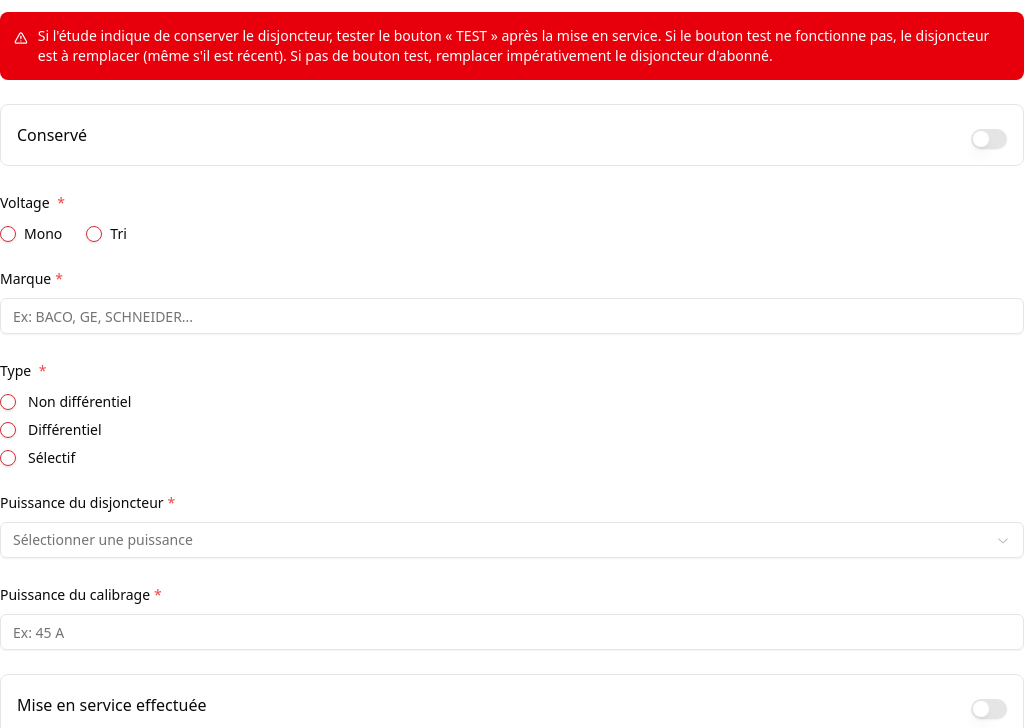
Test: CircuitBreakerStep — test du bouton (DTA-49) › demande le test quand le disjoncteur est conservé
Step 1. Click the switch in the row of "Conservé" → [989, 139], box left=971, top=129, right=1007, bottom=149
(page scrolled)
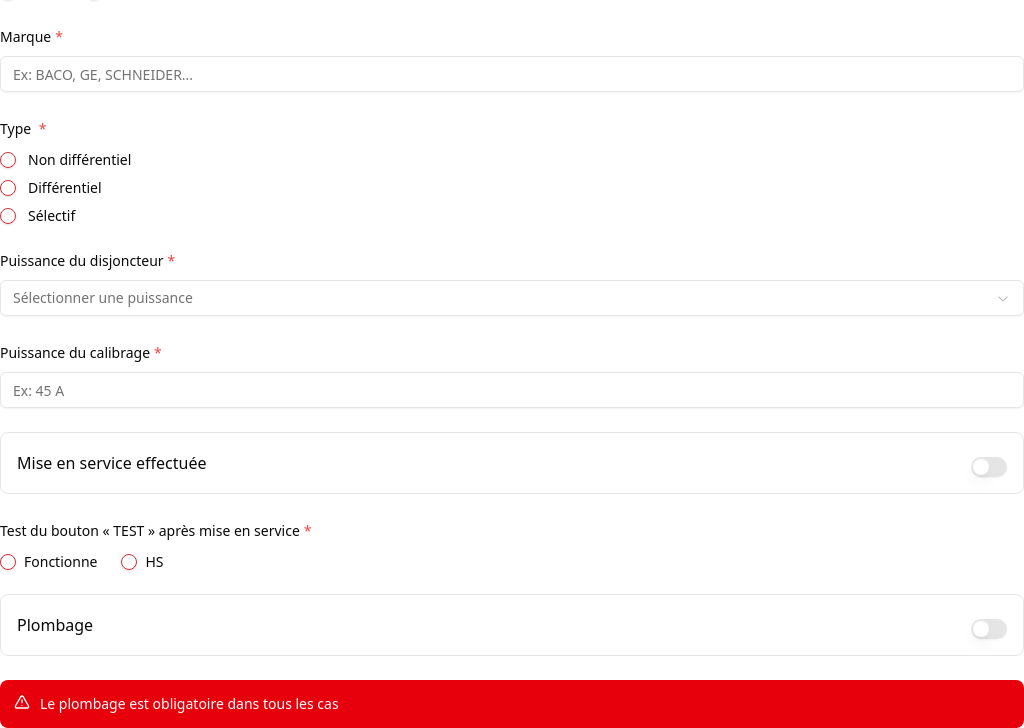
Now the text "Test du bouton « TEST » après mise en service*" is shown, box left=0, top=521, right=312, bottom=540
